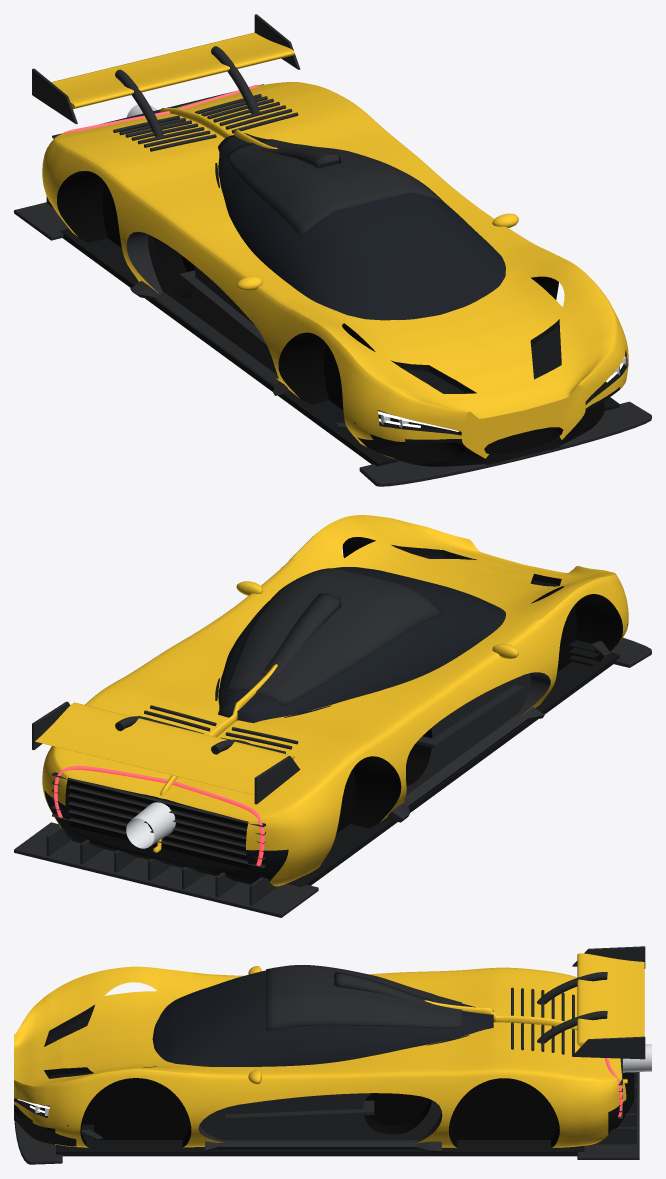
The model's file is volcano_p1.glb.
The picture shows the model from 3 angles, top to bottom: view 1: azimuth 30°, elevation 25°; view 2: azimuth 150°, elevation 25°; view 3: azimuth 270°, elevation 25°; orthographic projection. The views are drawn at different scales.
Parts seen in each view (by area): view 1: Body, Canopy, Roof, Wing, Floor, Splitter, Sill-1, Strake-1, DiffPlate, endplate-1, Snorkel, Fin (+3 smaller); view 2: Body, Roof, Canopy, Wing, DiffPlate, Floor, Sill-1, Snorkel, exh1, Strake-1, endplate-1, Fin (+10 smaller); view 3: Body, Canopy, Roof, Floor, Wing, Sill1, endplate1, Strake1, DiffPlate, Snorkel, Splitter, Fin (+5 smaller).
Boxes of the visible parts, left/top/right/bottom form: Body: left=42, top=82, right=628, bottom=466; Canopy: left=218, top=133, right=505, bottom=320; Roof: left=226, top=139, right=443, bottom=237; Wing: left=51, top=32, right=294, bottom=109; Floor: left=60, top=228, right=619, bottom=466; Splitter: left=359, top=401, right=651, bottom=486; Sill-1: left=130, top=280, right=288, bottom=395; Strake-1: left=179, top=270, right=268, bottom=349; DiffPlate: left=14, top=202, right=68, bottom=240; endplate-1: left=32, top=68, right=77, bottom=124; Snorkel: left=261, top=146, right=341, bottom=168; Fin: left=160, top=108, right=277, bottom=148; Body: left=42, top=515, right=628, bottom=886; Roof: left=226, top=568, right=443, bottom=705; Canopy: left=218, top=567, right=505, bottom=723; Wing: left=35, top=702, right=294, bottom=795; DiffPlate: left=14, top=822, right=318, bottom=917; Floor: left=60, top=652, right=619, bottom=886; Sill-1: left=387, top=707, right=544, bottom=822; Snorkel: left=261, top=593, right=341, bottom=677; exh1: left=126, top=802, right=175, bottom=848; Strake-1: left=415, top=684, right=524, bottom=748; endplate-1: left=254, top=756, right=300, bottom=804; Fin: left=153, top=664, right=277, bottom=852; Body: left=14, top=966, right=634, bottom=1147; Canopy: left=152, top=970, right=493, bottom=1066; Roof: left=266, top=965, right=462, bottom=1030; Floor: left=56, top=1140, right=584, bottom=1156; Wing: left=577, top=953, right=644, bottom=1046; Sill1: left=205, top=1140, right=441, bottom=1152; endplate1: left=572, top=1036, right=645, bottom=1059; Strake1: left=225, top=1100, right=374, bottom=1120; DiffPlate: left=577, top=1072, right=639, bottom=1159; Snorkel: left=336, top=972, right=439, bottom=1007; Splitter: left=14, top=1121, right=62, bottom=1164; Fin: left=424, top=1000, right=627, bottom=1083.
Size of the model in its own units: 1.99 by 1.1 by 4.71.
